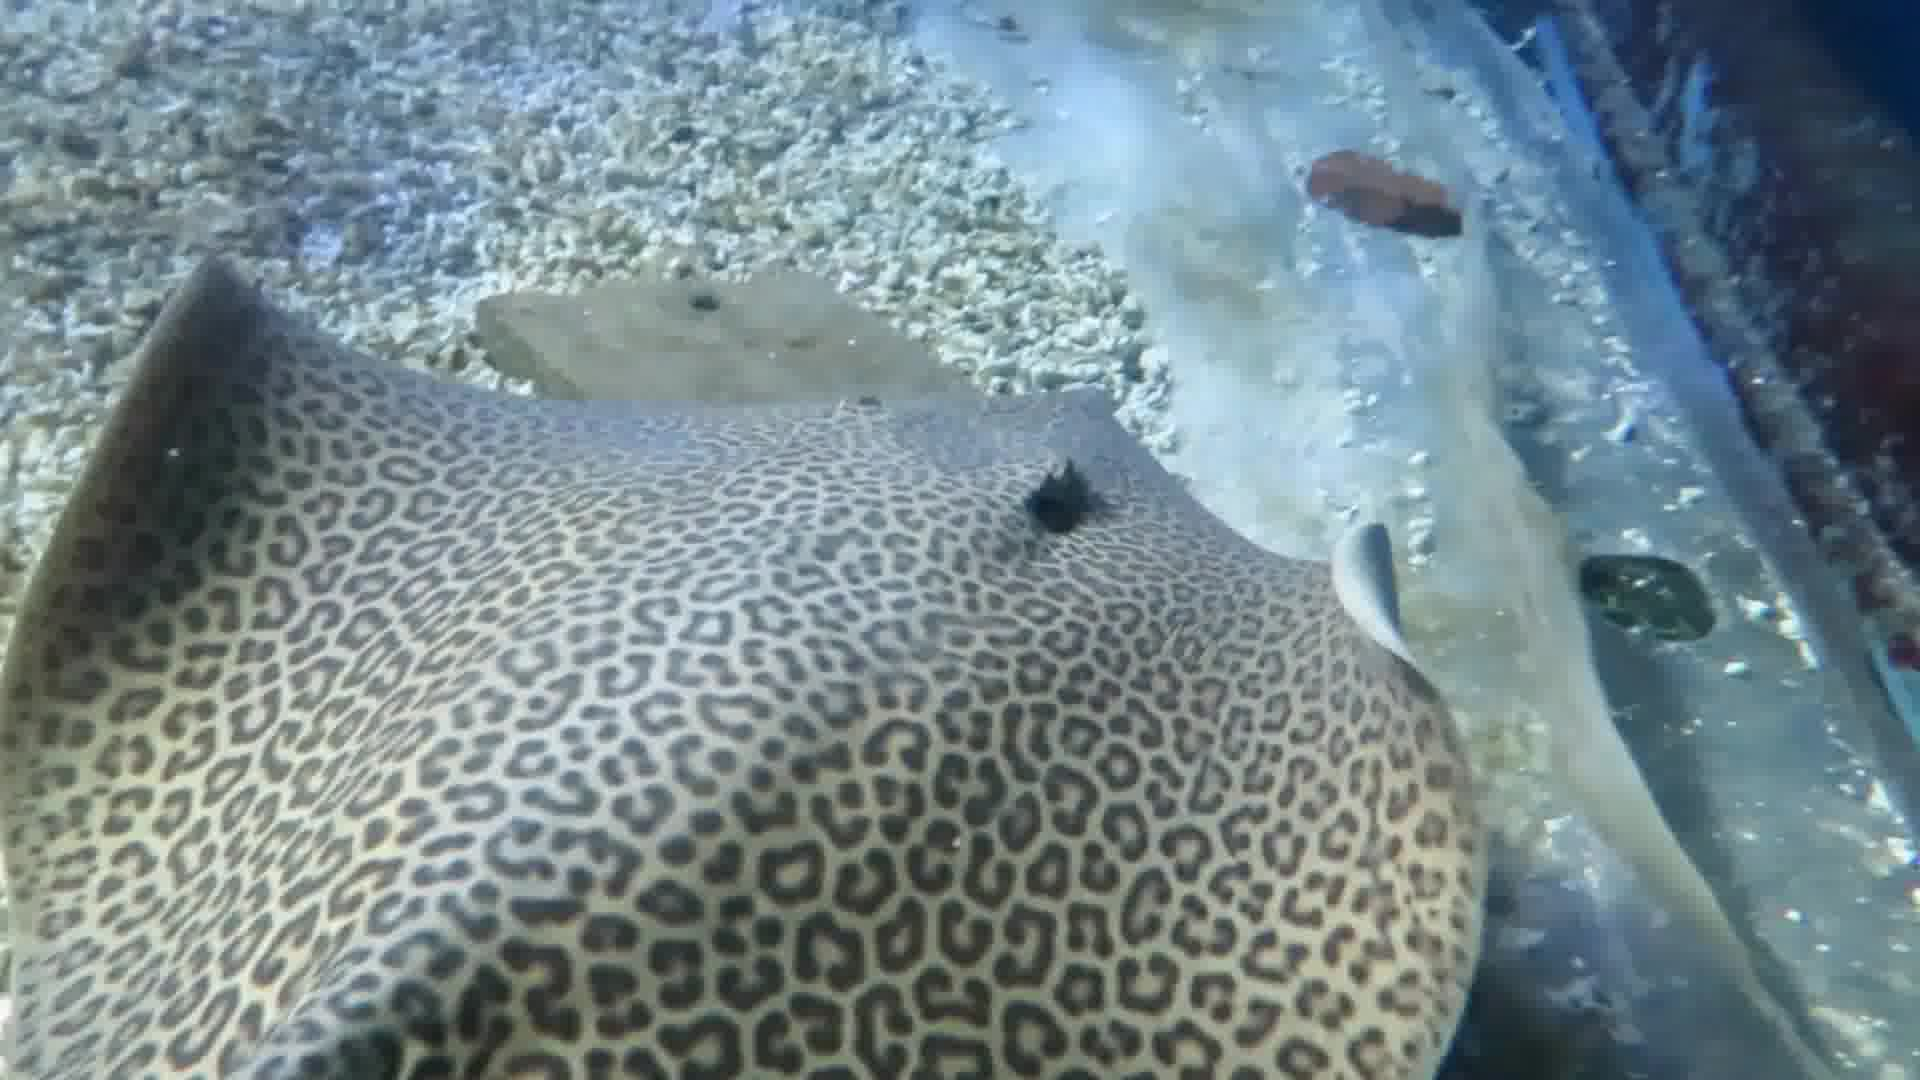Himantura uarnak: (3, 270, 1469, 1080)
